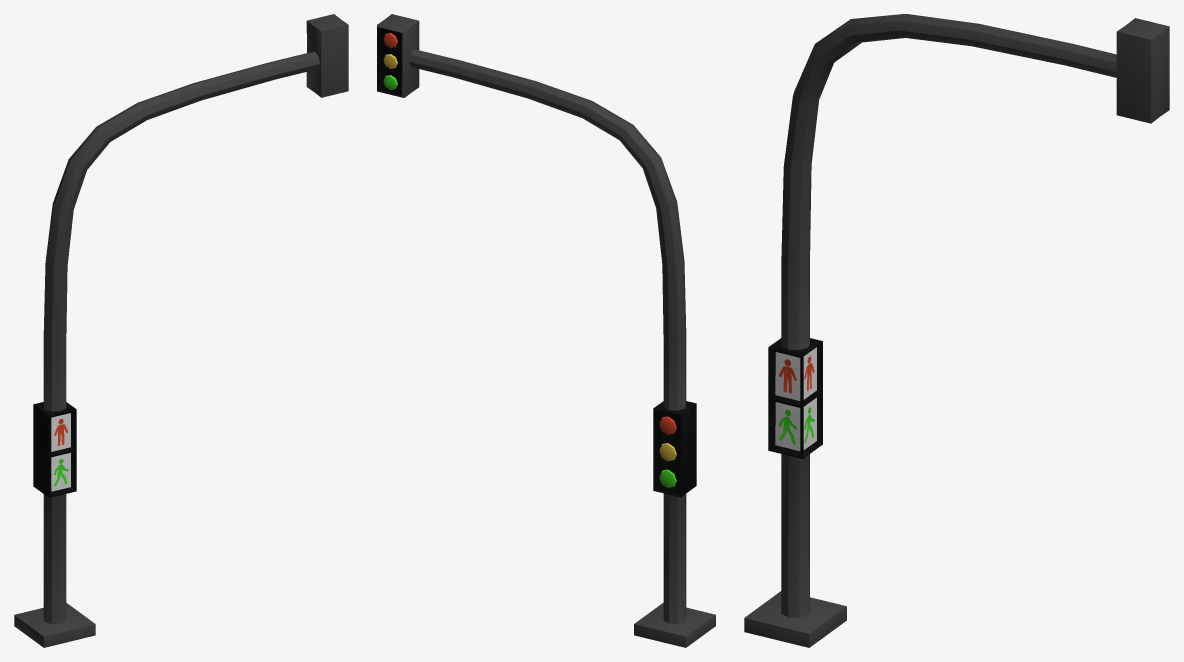
The model's file is Traffic_light.fbx.
The picture shows the model from 3 angles, left to right: view 1: azimuth 30°, elevation 25°; view 2: azimuth 150°, elevation 25°; view 3: azimuth 330°, elevation 25°; orthographic projection. The views are drawn at different scales.
Visible parts, largest first — view 1: Semáforo; view 2: Semáforo; view 3: Semáforo.
Boxes of the visible parts, x1,y1,x2,y2 form: Semáforo: [14, 14, 348, 647]; Semáforo: [377, 14, 715, 647]; Semáforo: [744, 14, 1169, 647].
Size of the model in its own units: 699 by 1149 by 115.
